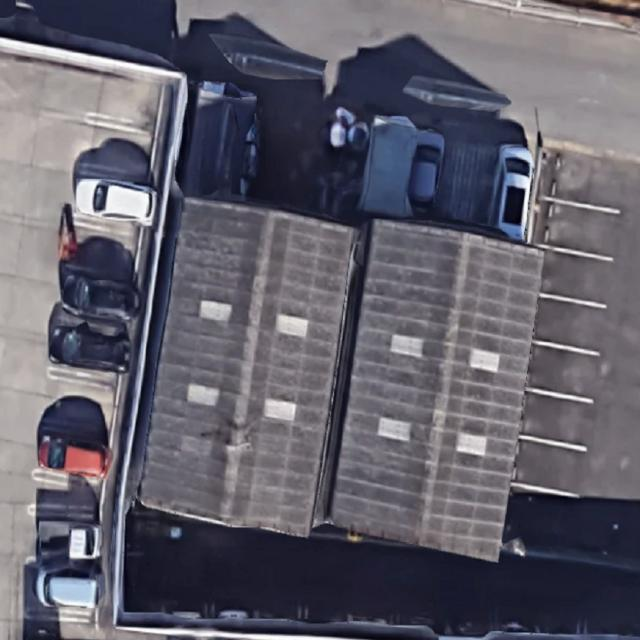Batiment: (140, 199, 355, 535), (331, 220, 542, 561)
